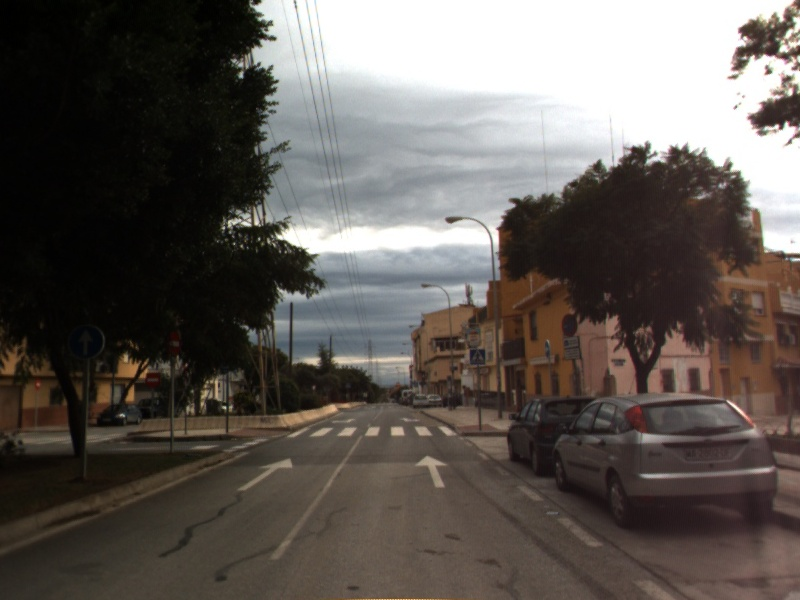STRAIGHT: (235, 456, 295, 492), (413, 453, 451, 490)
STRAIGHT_LEFT: (330, 416, 358, 425)
STRAIGHT_RIGHT: (398, 415, 422, 424)
